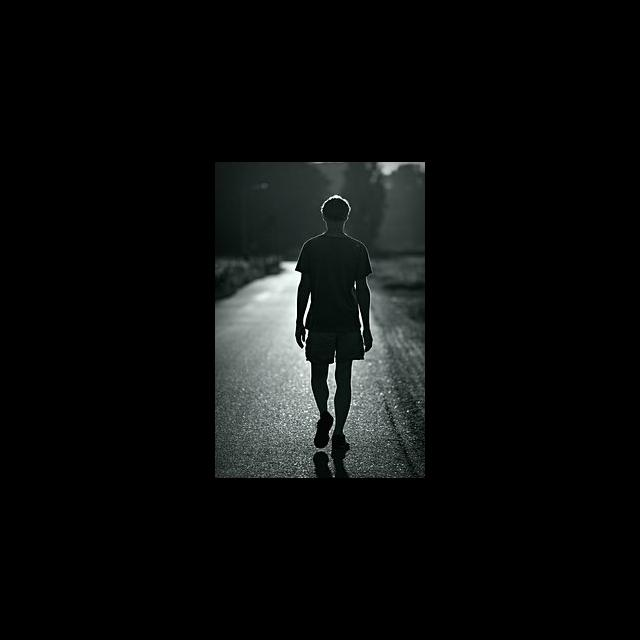male: (294, 185, 396, 245)
